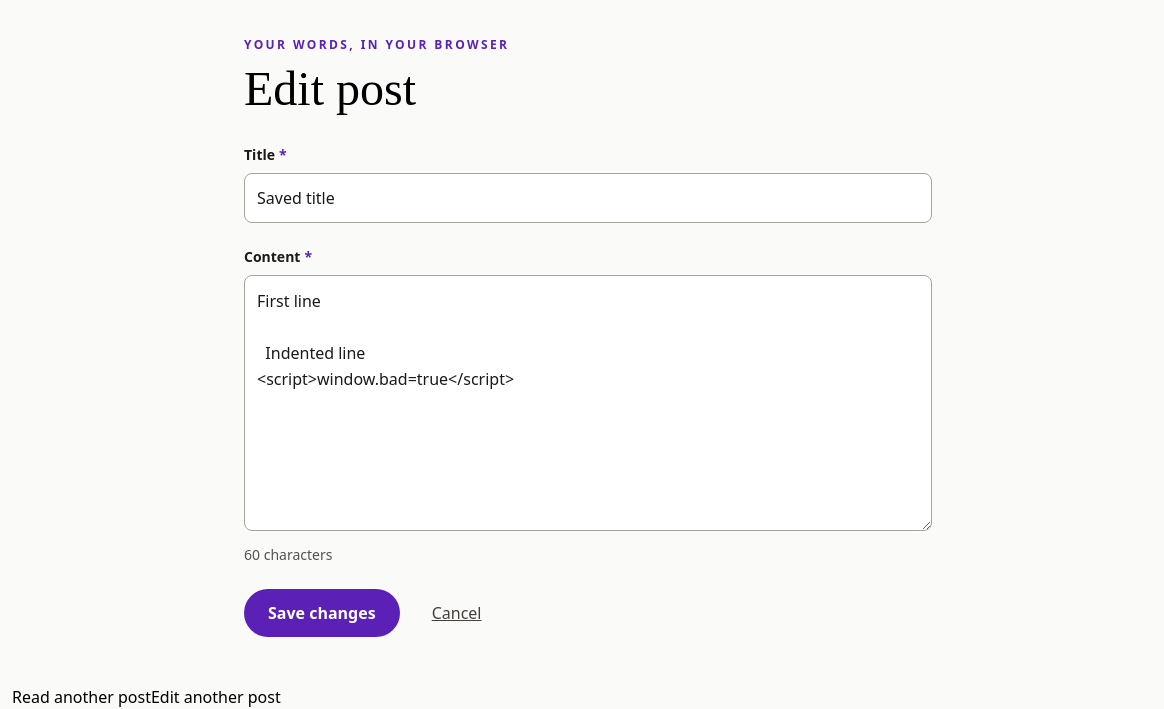
same-page route ID refresh › refreshes the editor target to read-error and discards old draft/validation without writes
Clear the field labelled "Title*" at point(588, 198), box [244,173,932,223]
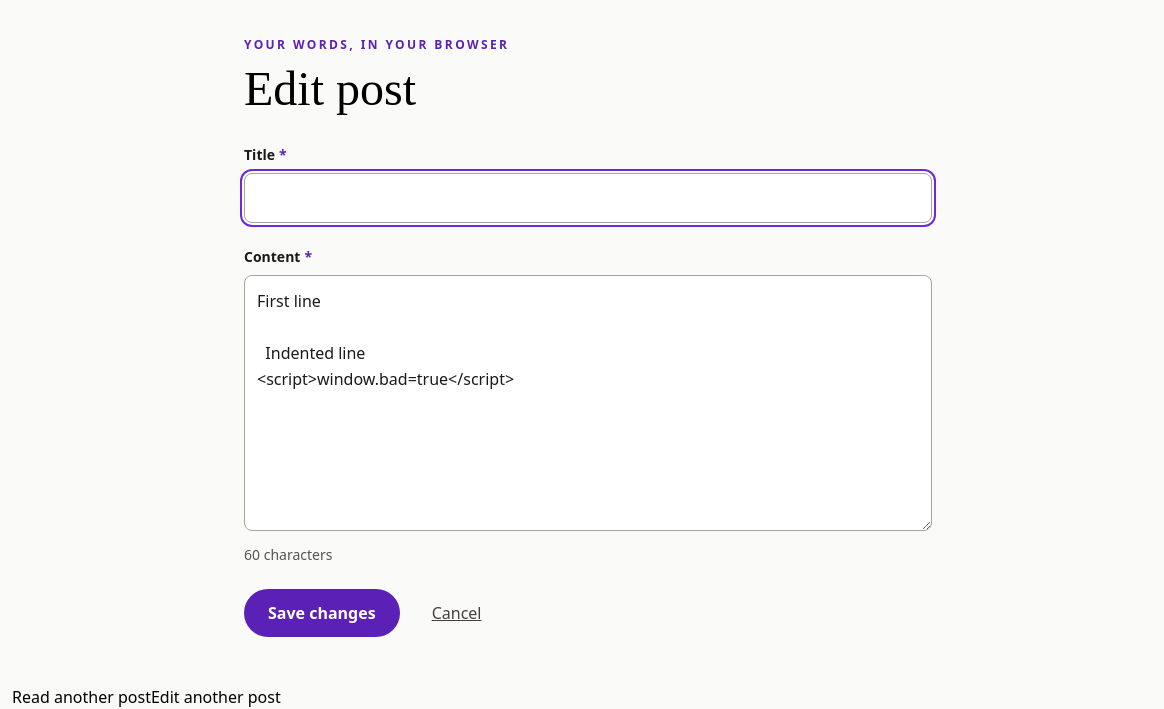
Click the button "Save changes".
click(322, 613)  # box [244,589,400,637]
(page scrolled)
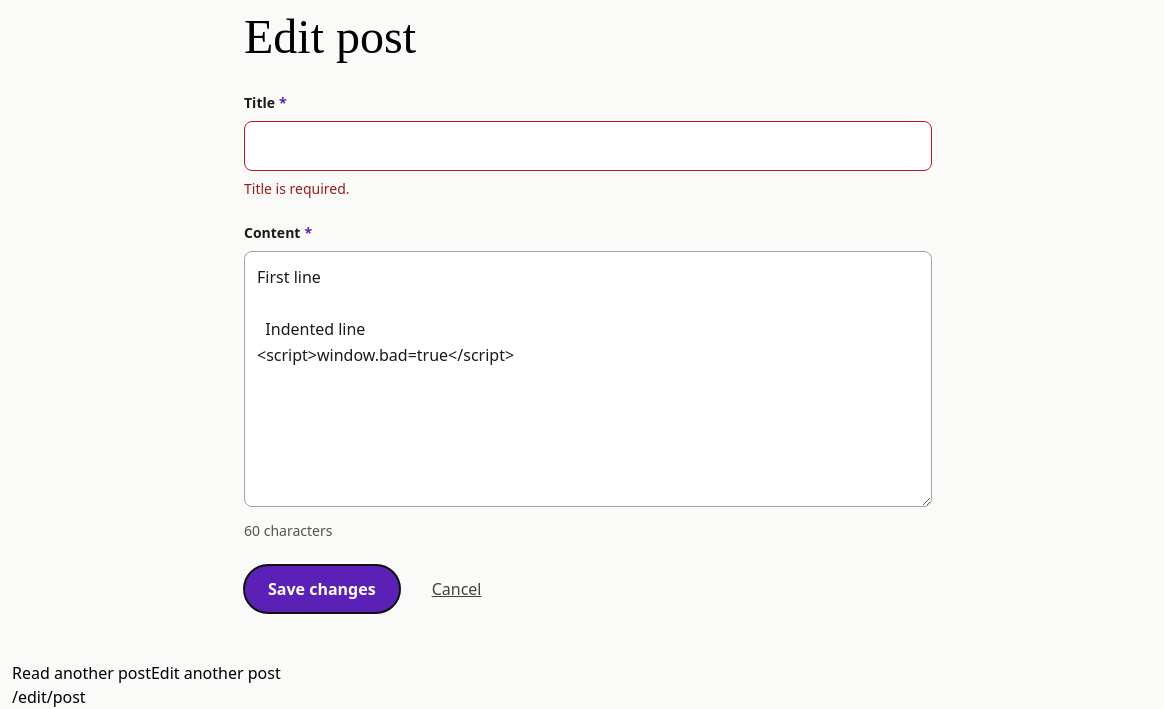
Expected: the text "Title is required." is shown, [244,179,350,198]
Click the link "Edit another post".
click(216, 673)  # box [151,662,281,684]
(page scrolled)
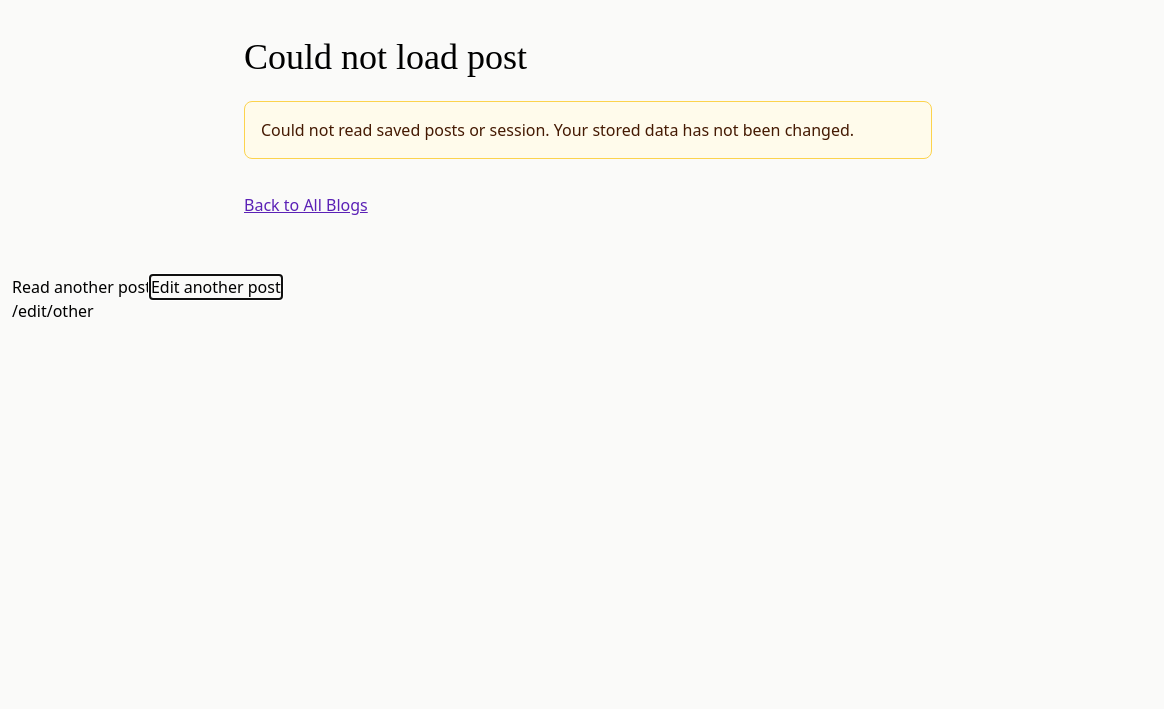
Expected: the text with test id "location" reads "/edit/other", [12,300,94,322]
Expected: the text "Title is required." is gone
Expected: the form is gone
